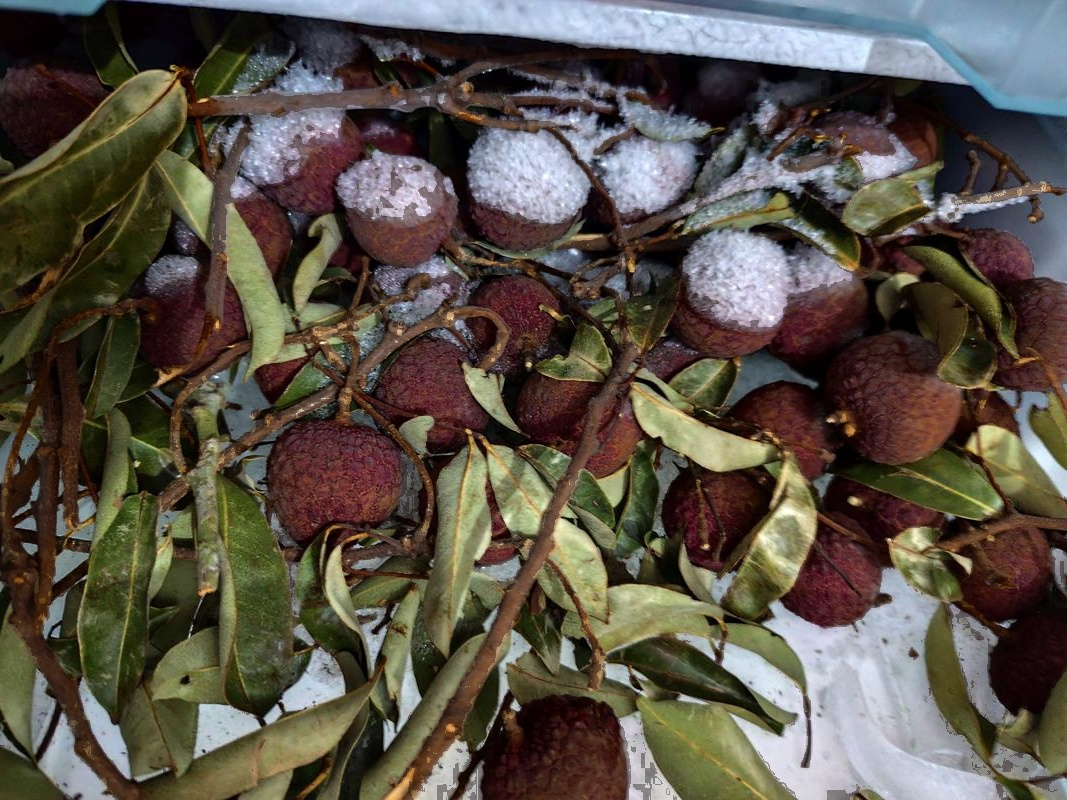Frost_Blight: (377, 53, 683, 324), (161, 0, 377, 299), (689, 97, 935, 334)
